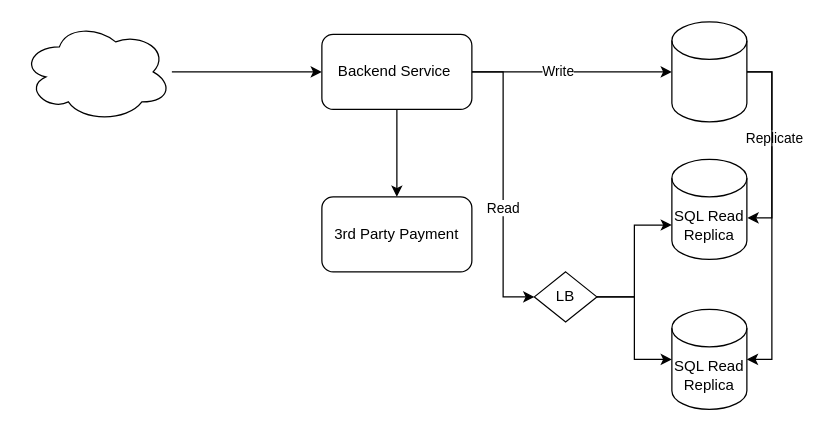
Some shapes in this 824 by 431 pixel diagram are drawn without their labels. The centre of each missing label's shape, as x and y in pixels:
"SQL DB" belongs at (x=709, y=71).
"Web Server" belongs at (x=96, y=71).
